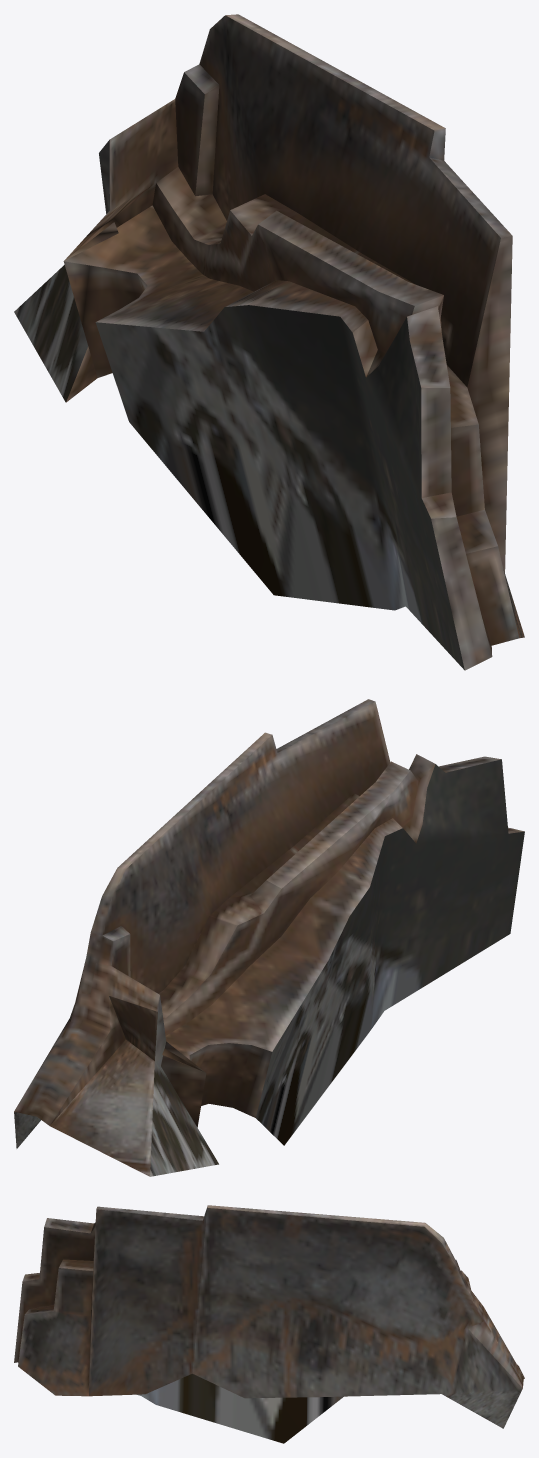
Rendered from plane_wreckage_debris_small_02.dae.
3 views of the same model, one above another, from view 1: azimuth 30°, elevation 25°; view 2: azimuth 150°, elevation 25°; view 3: azimuth 270°, elevation 25° (orthographic). The views are drawn at different scales.
Parts seen in each view (by area): view 1: pasted__plane_wreckage_wing_teselada2; view 2: pasted__plane_wreckage_wing_teselada2; view 3: pasted__plane_wreckage_wing_teselada2.
Part boxes in pixels (x1,y1,x2,y2): pasted__plane_wreckage_wing_teselada2: (14, 14, 524, 670); pasted__plane_wreckage_wing_teselada2: (14, 699, 524, 1176); pasted__plane_wreckage_wing_teselada2: (14, 1205, 524, 1443).
Size of the model in its own units: 48.65 by 91.75 by 162.
